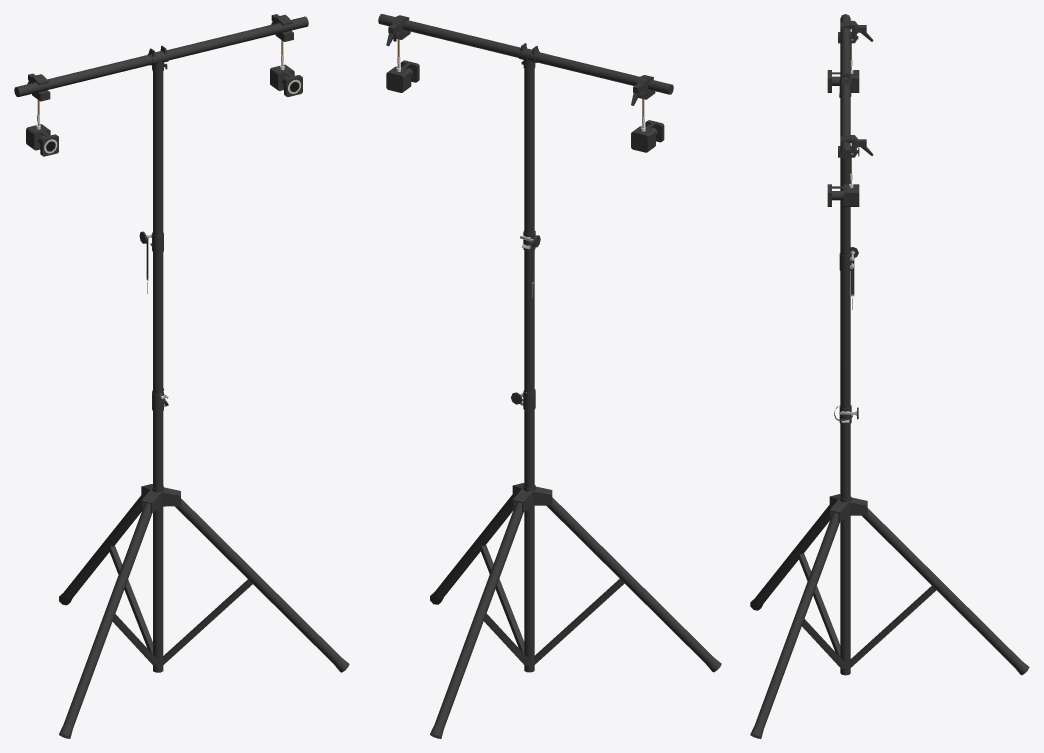
Rendered from cameraStand.fbx.
3 renders of one model, left to right at view 1: azimuth 30°, elevation 25°; view 2: azimuth 150°, elevation 25°; view 3: azimuth 270°, elevation 25°, orthographic. The views are drawn at different scales.
Parts seen in each view (by area): view 1: cameraStand; view 2: cameraStand; view 3: cameraStand.
Part boxes in pixels (x1,y1,x2,y2): cameraStand: [14, 14, 349, 738]; cameraStand: [378, 14, 721, 738]; cameraStand: [750, 14, 1029, 738].
Bounding box in the file's own units: 123 × 251 × 106.
1 material, 1 textured.
